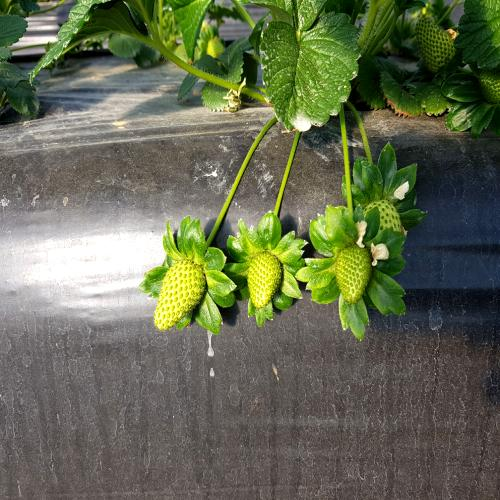unripe: (151, 246, 208, 340), (334, 227, 373, 313), (242, 249, 286, 316)
